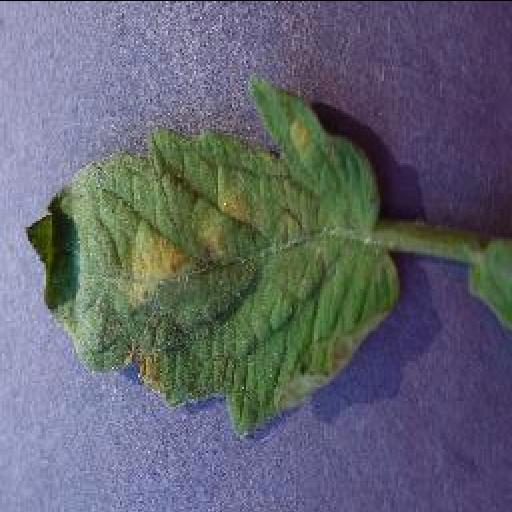disease_tomato: (23, 76, 401, 444)
